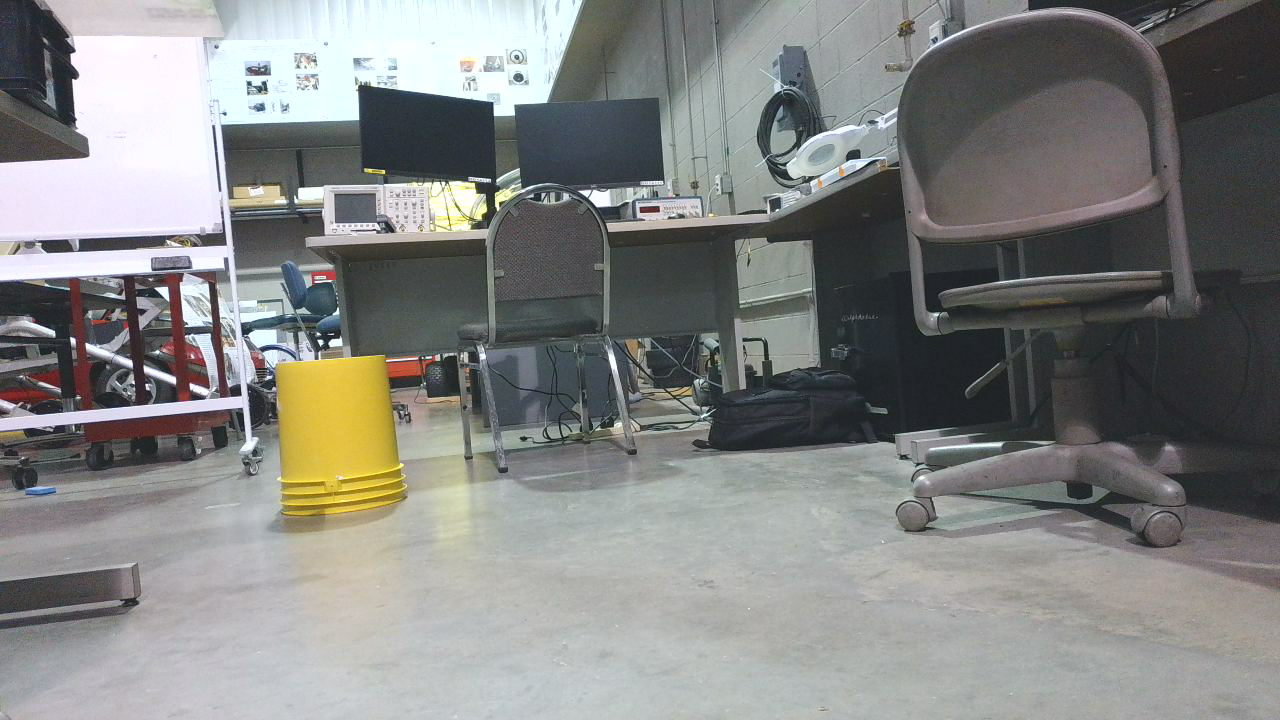yellow_bucket: (279, 360, 411, 523)
